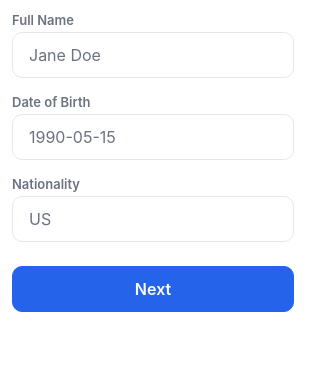
ProfileStep › shows validation errors and does not advance when inputs are invalid
Click the button "Next".
click(153, 289)  # box [12,266,294,312]
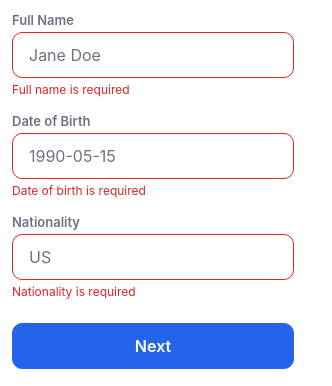
Check: the text "Full name is required" is shown, box [12,82,130,97]
Check: the text "Date of birth is required" is shown, box [12,183,146,198]
Check: the text "Nationality is required" is shown, box [12,284,136,299]
